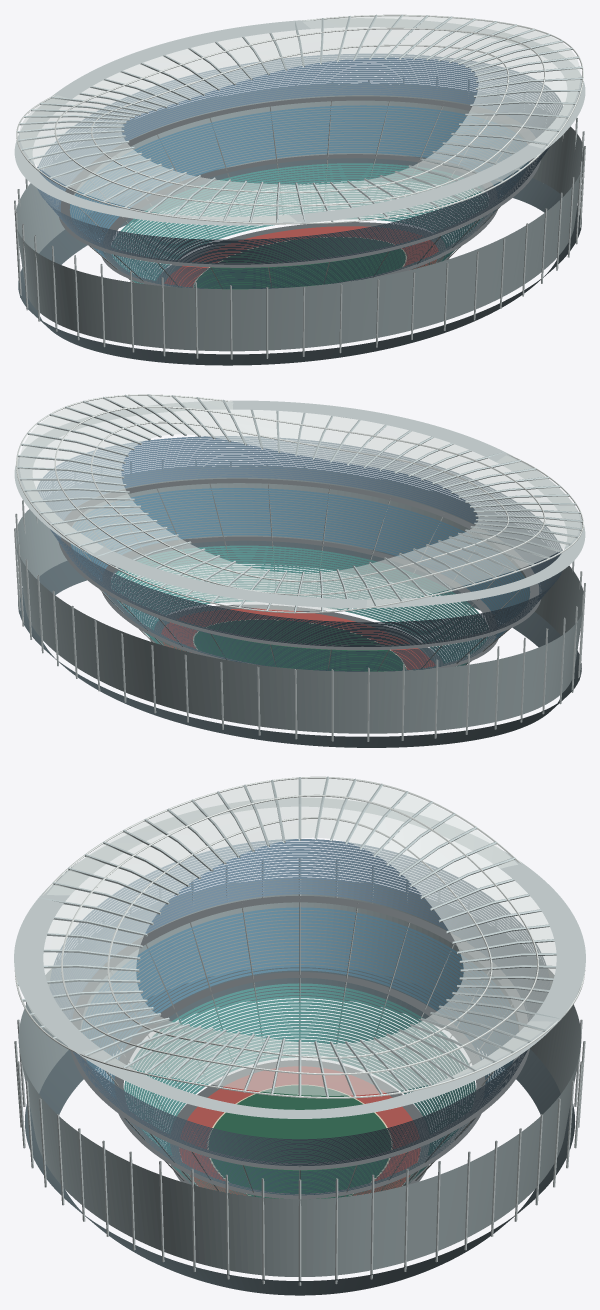
The model's file is wuxi_stadium-CoEWCpFe.glb.
3 views of the same model, one above another, from view 1: azimuth 30°, elevation 25°; view 2: azimuth 150°, elevation 25°; view 3: azimuth 270°, elevation 25° (orthographic). The views are drawn at different scales.
Parts seen in each view (by area): view 1: Outer facade belt, Roof edge fascia, Outer stadium plinth, Natural grass field, Upper concourse fascia, Lower concourse fascia, Red athletics track, Roof circumferential cable 2, Roof circumferential cable 3, Roof circumferential cable 1, Upper stand tread 08, Upper stand tread 09 (+114 smaller); view 2: Outer facade belt, Roof edge fascia, Outer stadium plinth, Natural grass field, Upper concourse fascia, Lower concourse fascia, Red athletics track, Roof circumferential cable 2, Roof circumferential cable 3, Roof circumferential cable 1, Upper stand tread 11, Upper stand tread 07 (+122 smaller); view 3: Outer facade belt, Roof edge fascia, Outer stadium plinth, Natural grass field, Upper concourse fascia, Red athletics track, Lower concourse fascia, Roof circumferential cable 2, Roof circumferential cable 3, Track outer apron, Roof circumferential cable 1, Upper stand tread 12 (+125 smaller).
Boxes of the visible parts, bbox=[...] form: Outer facade belt: bbox=[15, 83, 583, 351]; Roof edge fascia: bbox=[14, 18, 585, 225]; Outer stadium plinth: bbox=[18, 156, 581, 365]; Natural grass field: bbox=[194, 237, 405, 289]; Upper concourse fascia: bbox=[58, 96, 540, 267]; Lower concourse fascia: bbox=[102, 154, 497, 288]; Red athletics track: bbox=[164, 226, 438, 287]; Roof circumferential cable 2: bbox=[54, 27, 545, 206]; Roof circumferential cable 3: bbox=[16, 14, 583, 224]; Roof circumferential cable 1: bbox=[91, 44, 509, 192]; Upper stand tread 08: bbox=[51, 80, 546, 256]; Upper stand tread 09: bbox=[50, 78, 547, 255]; Outer facade belt: bbox=[16, 466, 584, 733]; Roof edge fascia: bbox=[14, 400, 585, 608]; Outer stadium plinth: bbox=[18, 538, 581, 747]; Natural grass field: bbox=[194, 620, 405, 671]; Upper concourse fascia: bbox=[58, 478, 541, 650]; Lower concourse fascia: bbox=[102, 536, 498, 670]; Red athletics track: bbox=[161, 608, 435, 669]; Roof circumferential cable 2: bbox=[54, 406, 545, 595]; Roof circumferential cable 3: bbox=[16, 394, 583, 613]; Roof circumferential cable 1: bbox=[90, 421, 508, 582]; Upper stand tread 11: bbox=[49, 457, 551, 635]; Upper stand tread 07: bbox=[54, 464, 547, 640]; Outer facade belt: bbox=[18, 879, 581, 1276]; Roof edge fascia: bbox=[14, 798, 585, 1118]; Outer stadium plinth: bbox=[24, 967, 575, 1295]; Natural grass field: bbox=[209, 1085, 390, 1198]; Upper concourse fascia: bbox=[70, 896, 529, 1170]; Red athletics track: bbox=[179, 1066, 420, 1195]; Lower concourse fascia: bbox=[112, 972, 487, 1199]; Roof circumferential cable 2: bbox=[61, 794, 538, 1075]; Roof circumferential cable 3: bbox=[14, 776, 585, 1098]; Track outer apron: bbox=[168, 1060, 431, 1185]; Roof circumferential cable 1: bbox=[107, 817, 492, 1058]; Upper stand tread 12: bbox=[60, 864, 539, 1152].
Size of the model in its own units: 250 by 77.45 by 187.
